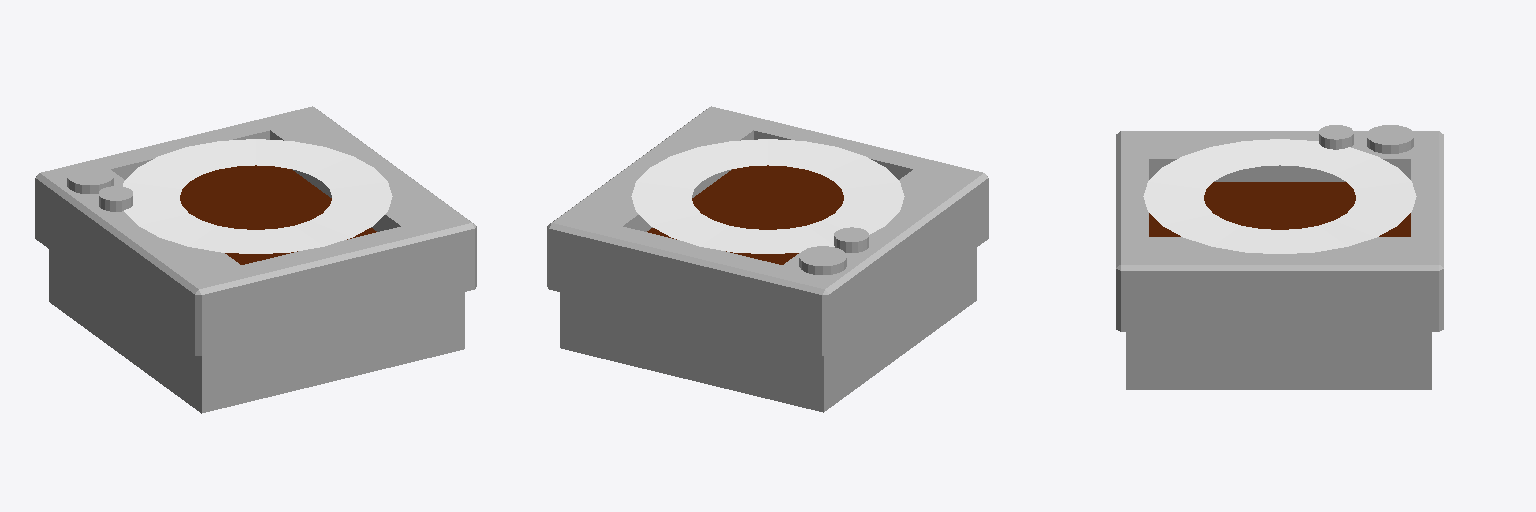
3 views of the same model, side by side, from view 1: azimuth 30°, elevation 25°; view 2: azimuth 150°, elevation 25°; view 3: azimuth 270°, elevation 25° (orthographic).
Visible parts, largest first — view 1: Worktop, Mesh1; view 2: Worktop, Mesh1; view 3: Worktop, Mesh1.
Part boxes in pixels (left/top/right/bottom): Worktop: left=35, top=106, right=476, bottom=413; Mesh1: left=123, top=139, right=392, bottom=253; Worktop: left=547, top=106, right=988, bottom=412; Mesh1: left=631, top=139, right=904, bottom=253; Worktop: left=1116, top=125, right=1443, bottom=389; Mesh1: left=1143, top=139, right=1416, bottom=253.
Bounding box in the file's own units: 1.2 × 0.5643 × 1.22.
3 materials, 1 textured.